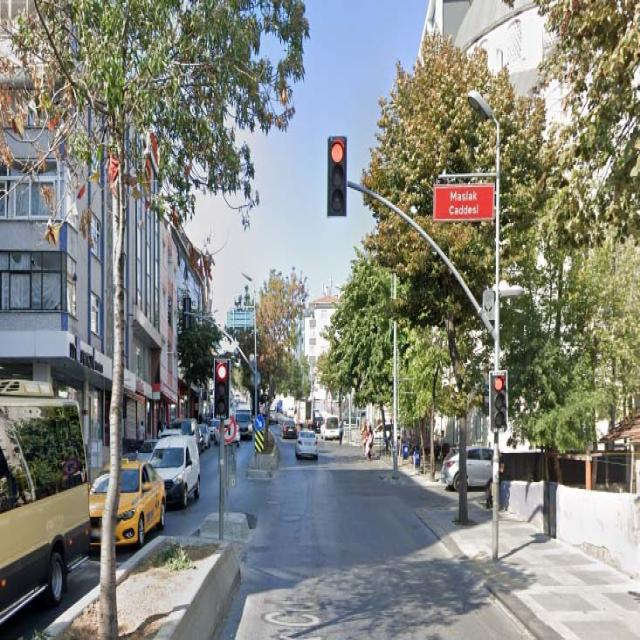kirmizi: (327, 134, 348, 219), (488, 368, 508, 431), (214, 359, 228, 420)
soladonulmez: (221, 417, 236, 443)
